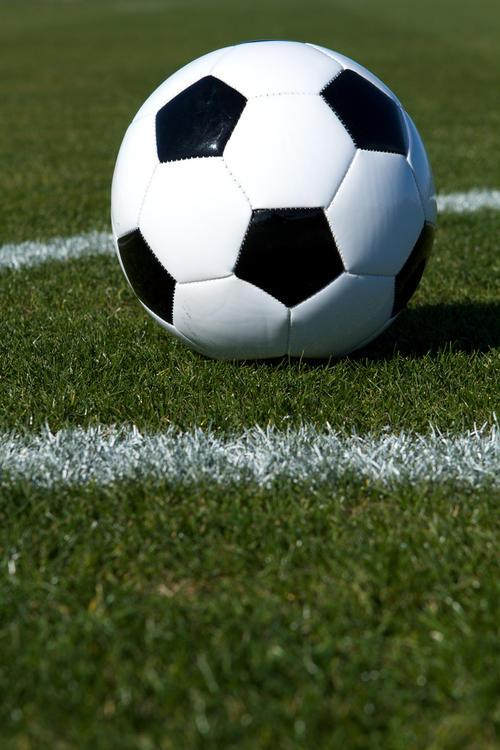football: (104, 28, 437, 368)
